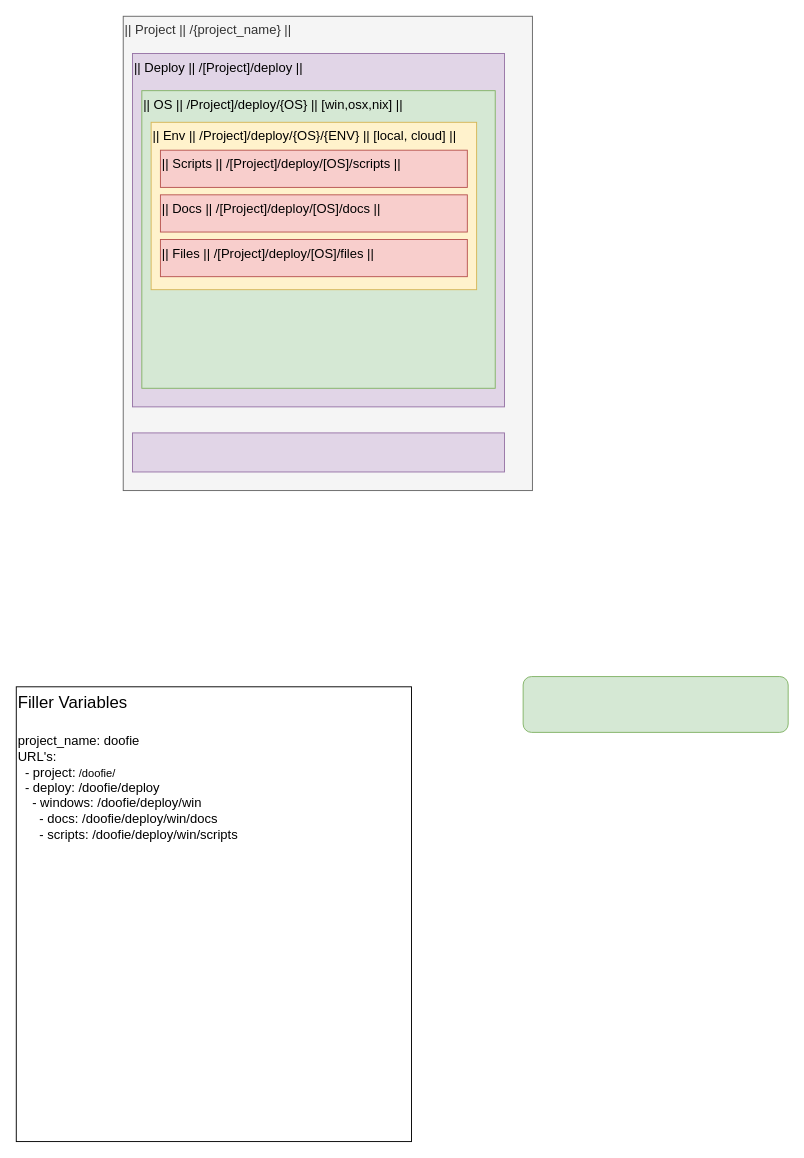
This 804x1158 diagram has some shape labels left out. Each missing label, with the centre of its shape:
Heading Pattern: || [TITLE] || [URL] || [OPTIONS] (if avail) ||: point 655,704
|| App || /[Project]/[App] || [app_name, "app" as default value] ||: point 318,452
